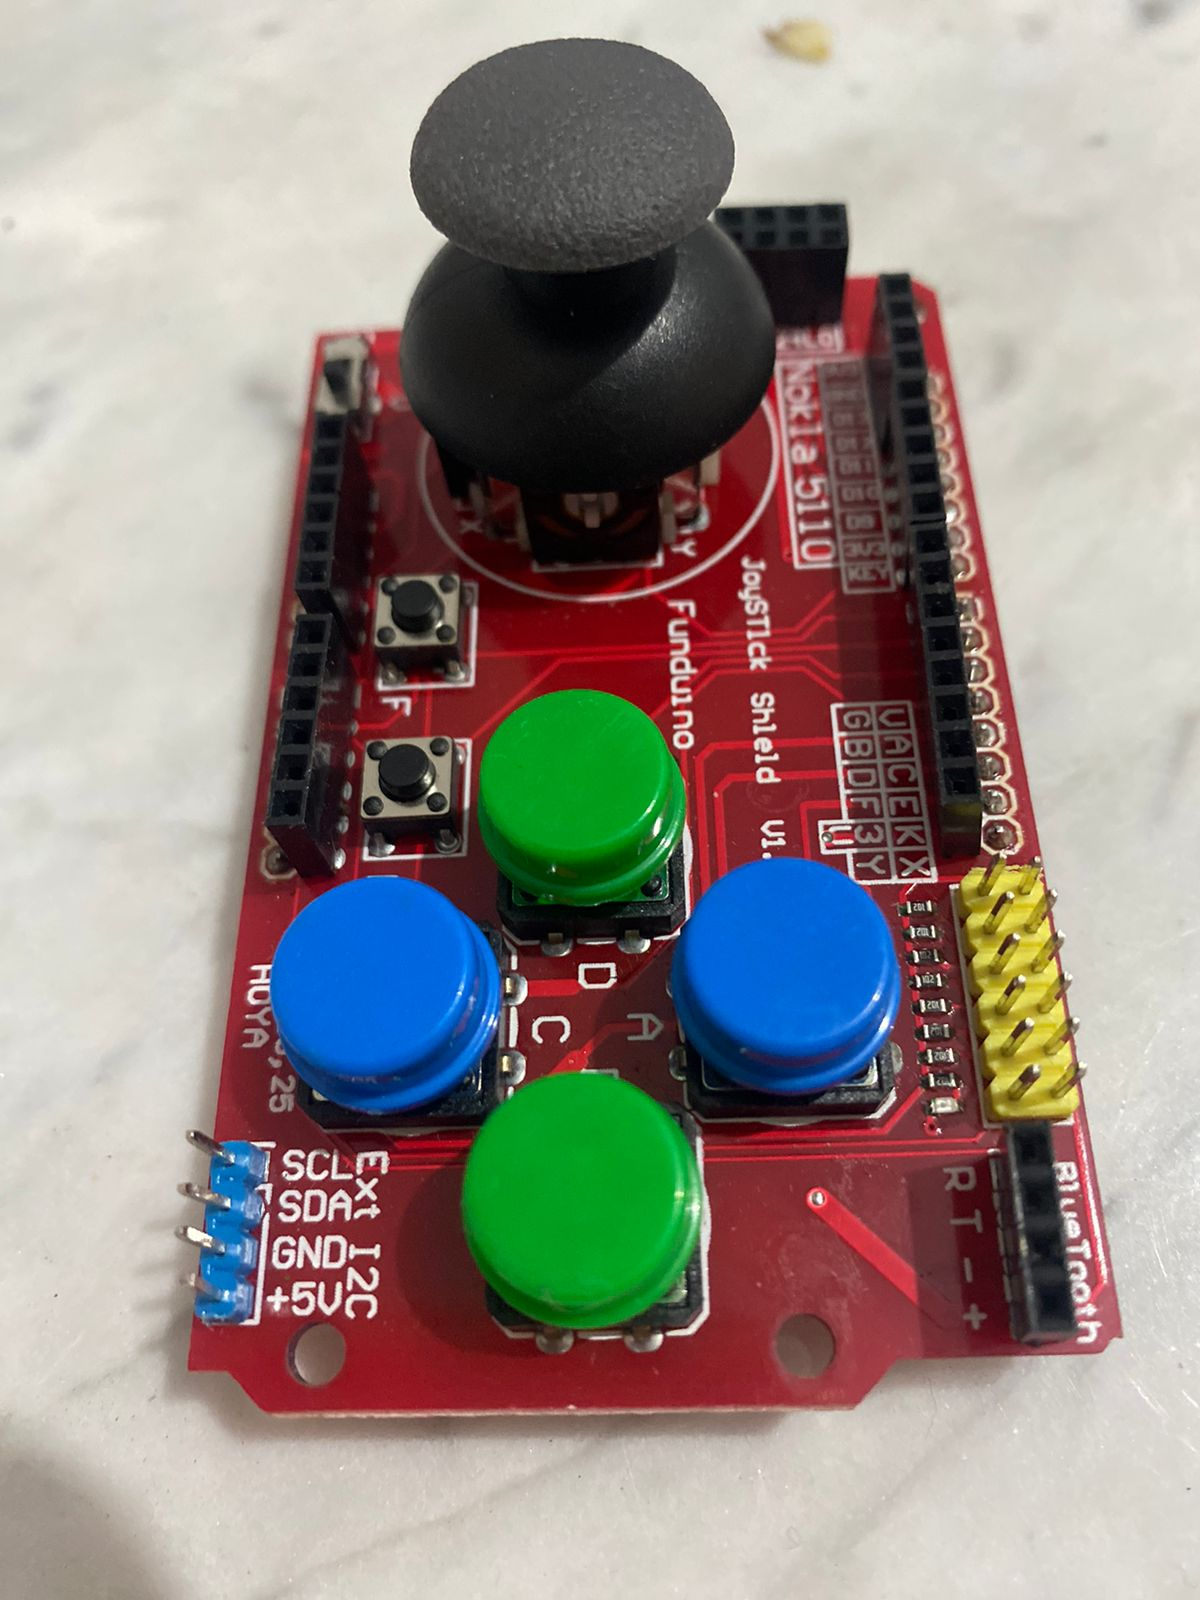Clavier-Joystick: (145, 21, 1129, 1422)
